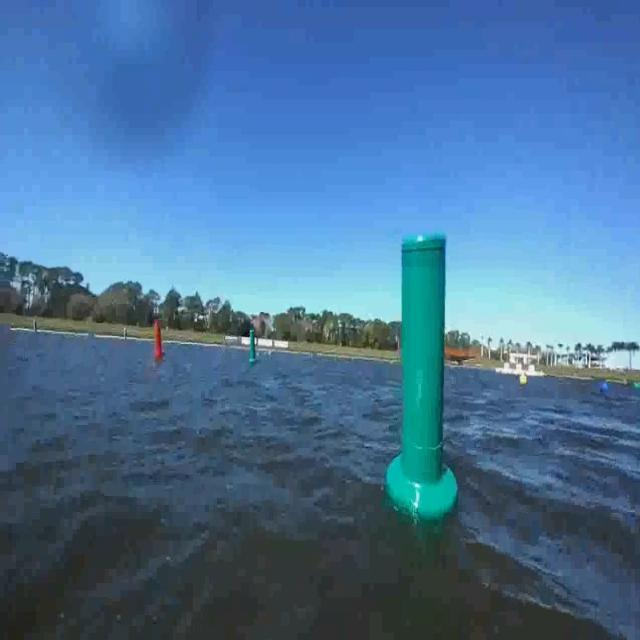blue-buoy: (600, 380, 610, 396)
green-buoy: (634, 381, 640, 392)
green-column-buoy: (388, 231, 459, 520), (248, 330, 258, 364)
red-column-buoy: (153, 320, 164, 358)
yellow-buoy: (520, 374, 528, 388)
